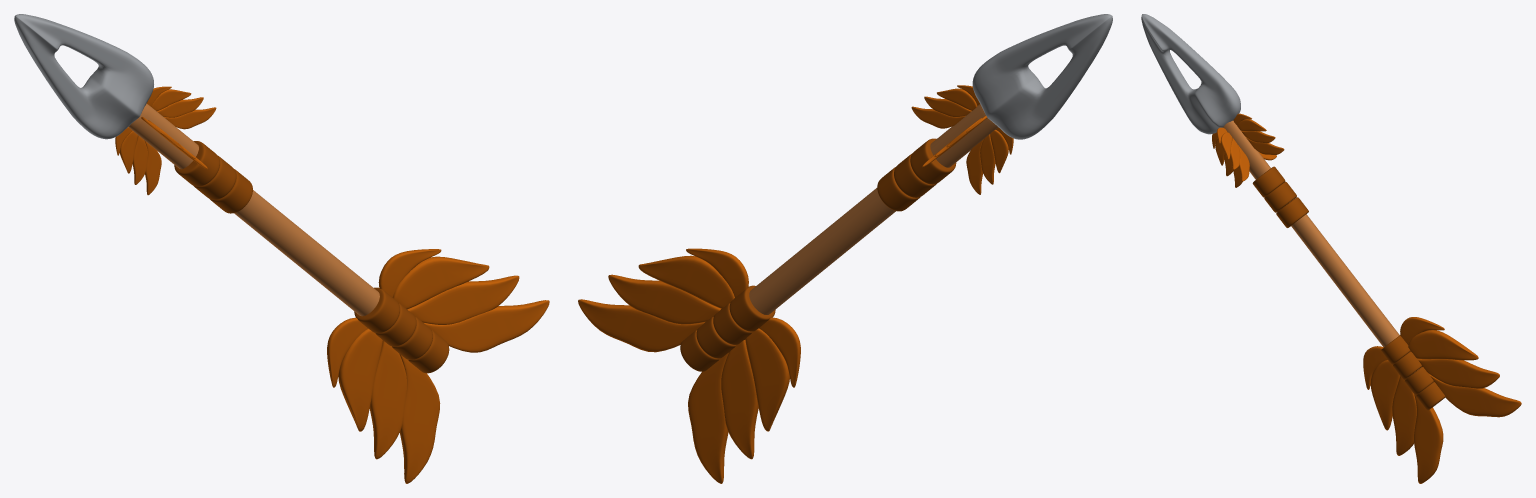
File: arrow-12478370.glb
3 views of the same model, side by side, from view 1: azimuth 30°, elevation 25°; view 2: azimuth 150°, elevation 25°; view 3: azimuth 330°, elevation 25° (orthographic). The views are drawn at different scales.
Visible parts, largest first — view 1: Plane.013, Plane.009, Cylinder.008, Plane.011, Cylinder.009, Cylinder.013, Cylinder.015, Cylinder.011, Cylinder.014, Cylinder.010, Cylinder.012; view 2: Plane.013, Plane.009, Cylinder.008, Plane.011, Cylinder.013, Cylinder.009, Cylinder.015, Cylinder.014, Cylinder.011, Cylinder.010, Cylinder.012; view 3: Plane.013, Plane.009, Cylinder.008, Plane.011, Plane.012, Cylinder.015, Cylinder.014, Cylinder.013, Cylinder.009, Cylinder.012, Cylinder.010, Cylinder.011.
Part boxes in pixels (x1,y1,x2,y2): Plane.013: [327, 249, 549, 483]; Plane.009: [14, 14, 153, 139]; Cylinder.008: [128, 103, 379, 316]; Plane.011: [115, 86, 216, 195]; Cylinder.009: [354, 287, 399, 333]; Cylinder.013: [174, 141, 219, 186]; Cylinder.015: [210, 169, 252, 213]; Cylinder.011: [392, 317, 432, 359]; Cylinder.014: [194, 156, 236, 199]; Cylinder.010: [375, 303, 416, 346]; Cylinder.012: [408, 330, 449, 373]; Plane.013: [578, 248, 800, 483]; Plane.009: [972, 14, 1112, 139]; Cylinder.008: [749, 104, 998, 314]; Plane.011: [911, 85, 1013, 194]; Cylinder.013: [910, 138, 956, 184]; Cylinder.009: [729, 285, 775, 331]; Cylinder.015: [877, 167, 920, 211]; Cylinder.014: [894, 153, 936, 197]; Cylinder.011: [696, 317, 735, 358]; Cylinder.010: [713, 303, 752, 344]; Cylinder.012: [680, 330, 719, 371]; Plane.013: [1363, 317, 1521, 483]; Plane.009: [1141, 14, 1240, 134]; Cylinder.008: [1223, 120, 1418, 376]; Plane.011: [1212, 113, 1284, 187]; Plane.012: [1217, 127, 1276, 181]; Cylinder.015: [1276, 197, 1308, 227]; Cylinder.014: [1264, 181, 1296, 212]; Cylinder.013: [1252, 166, 1285, 197]; Cylinder.009: [1381, 335, 1410, 364]; Cylinder.012: [1416, 382, 1445, 410]; Cylinder.010: [1393, 351, 1421, 379]; Cylinder.011: [1404, 367, 1433, 395].
Bounding box in the file's own units: 5.9 × 5.95 × 0.9234.
